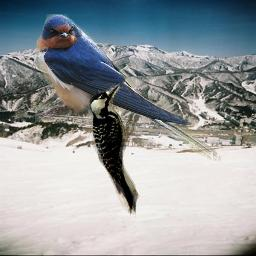Swallow: (35, 14, 221, 161)
Woodpecker: (83, 81, 148, 224)
